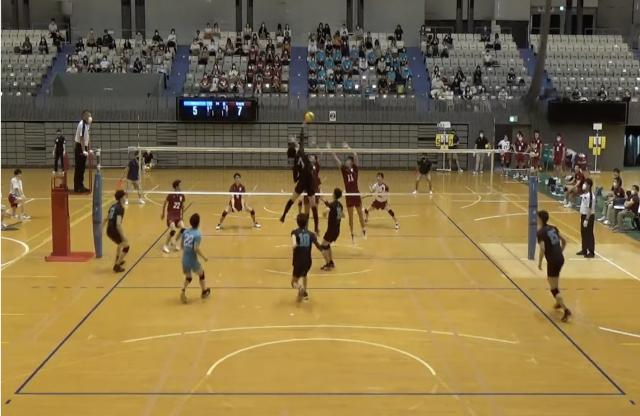spike: (278, 106, 326, 241)
